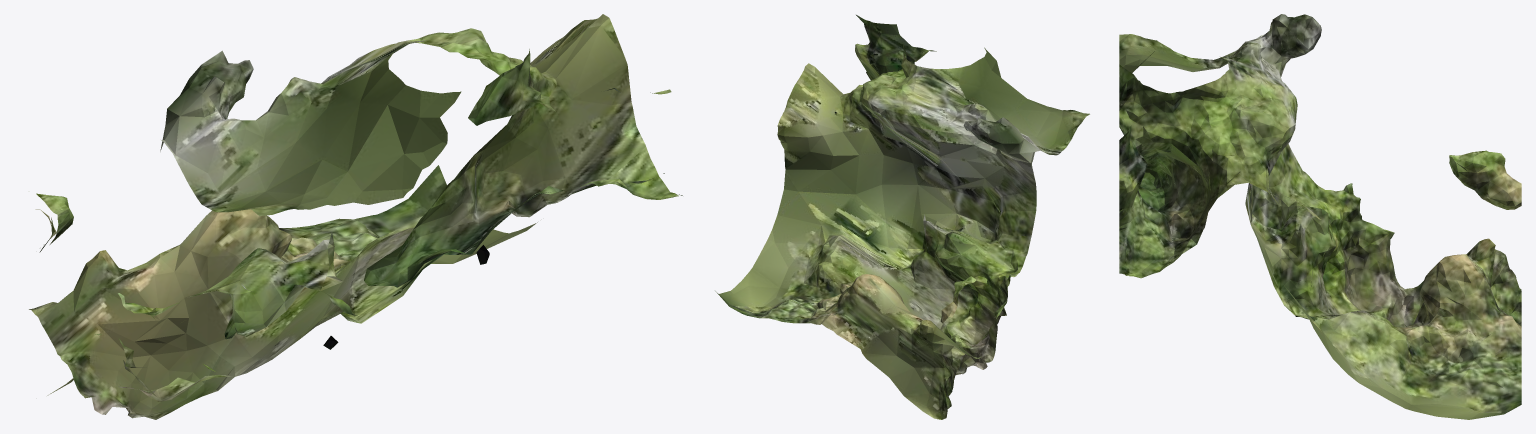
The picture shows the model from 3 angles, left to right: view 1: azimuth 30°, elevation 25°; view 2: azimuth 150°, elevation 25°; view 3: azimuth 270°, elevation 25°; orthographic projection. The views are drawn at different scales.
Size of the model in its own units: 26.11 by 26.01 by 26.11.
5 materials, 5 textured.
